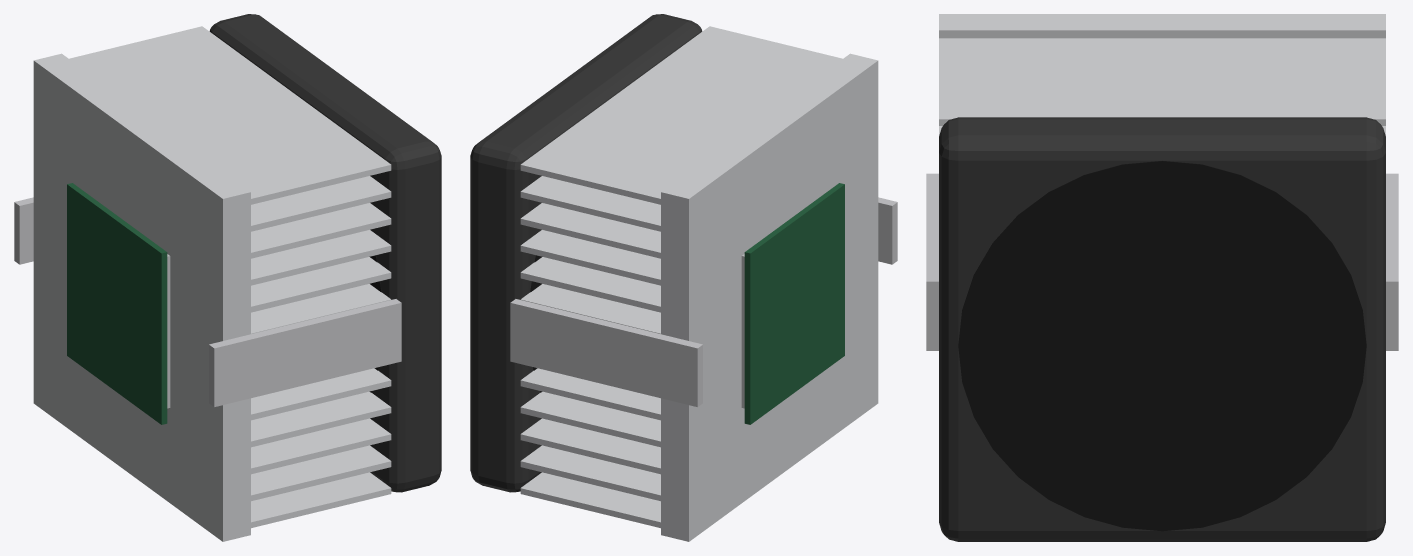
Rendered from cpu_cooler.glb.
3 views of the same model, side by side, from view 1: azimuth 30°, elevation 25°; view 2: azimuth 150°, elevation 25°; view 3: azimuth 270°, elevation 25° (orthographic). The views are drawn at different scales.
Visible parts, largest first — view 1: cooler_body; view 2: cooler_body; view 3: cooler_body.
Boxes of the visible parts, <box> form: cooler_body: <box>14,14,441,541</box>; cooler_body: <box>470,14,897,541</box>; cooler_body: <box>926,14,1398,541</box>.
Size of the model in its own units: 0.0511 by 0.07 by 0.074.
